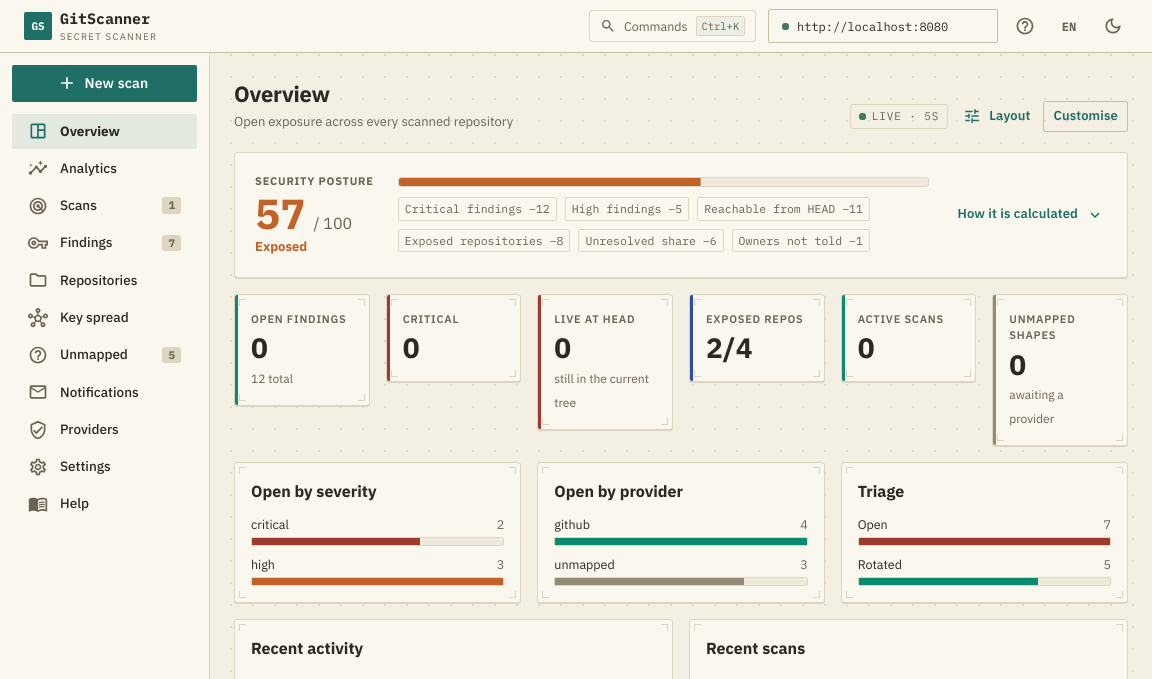
Test: overview › hides a widget and offers it back
What coordinates should you click on to do the following:
click the button "Customise"
I would click on:
 (1086, 116)
Its box is [1044,101,1128,132].
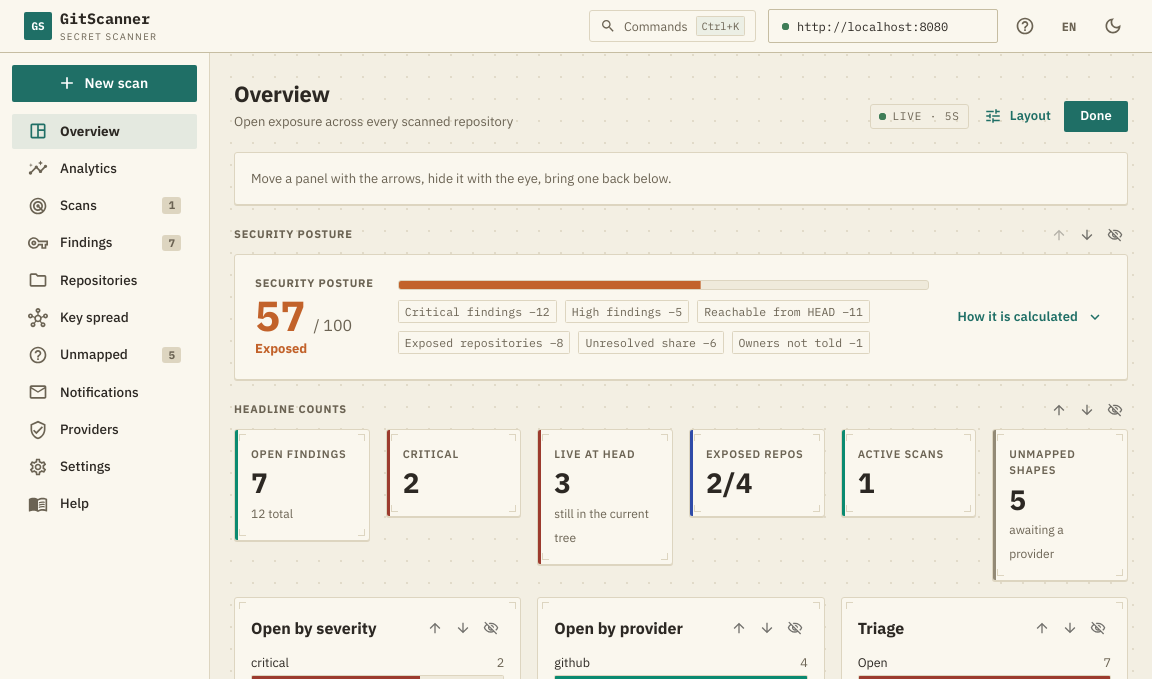
What coordinates should you click on to do the following:
click the 1st button named "hide"
I would click on:
 (1115, 235)
Its box is [1102,222,1128,248].
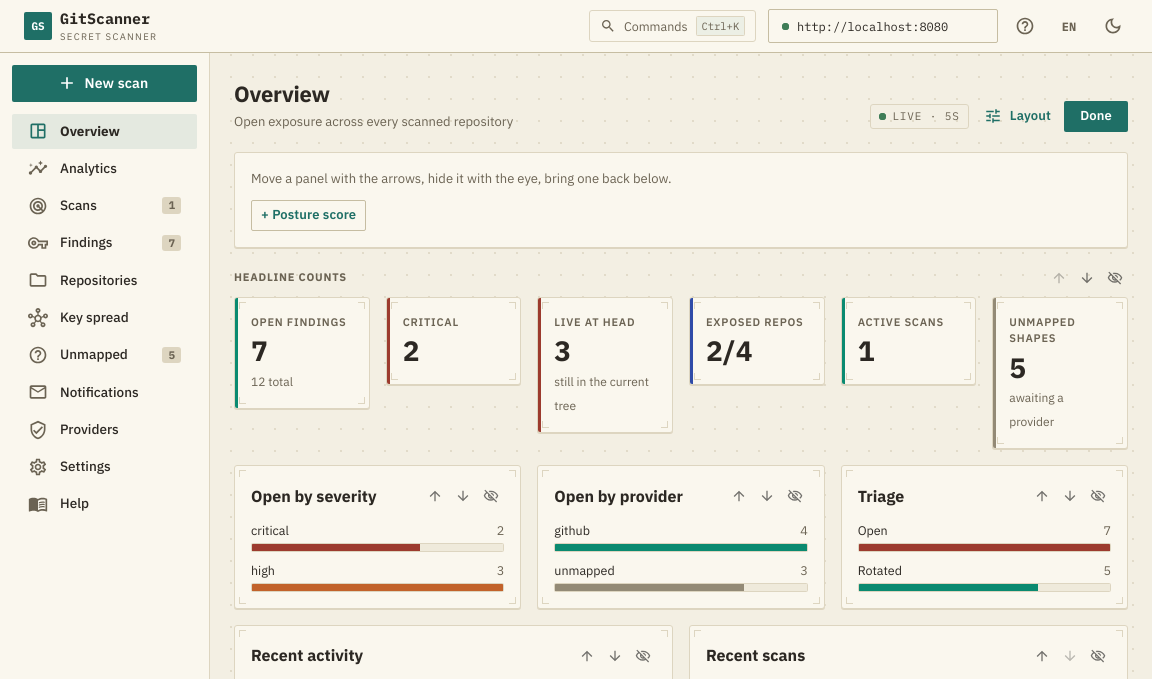
Now the button "+ Posture score" is shown, box [251,200,366,231]
